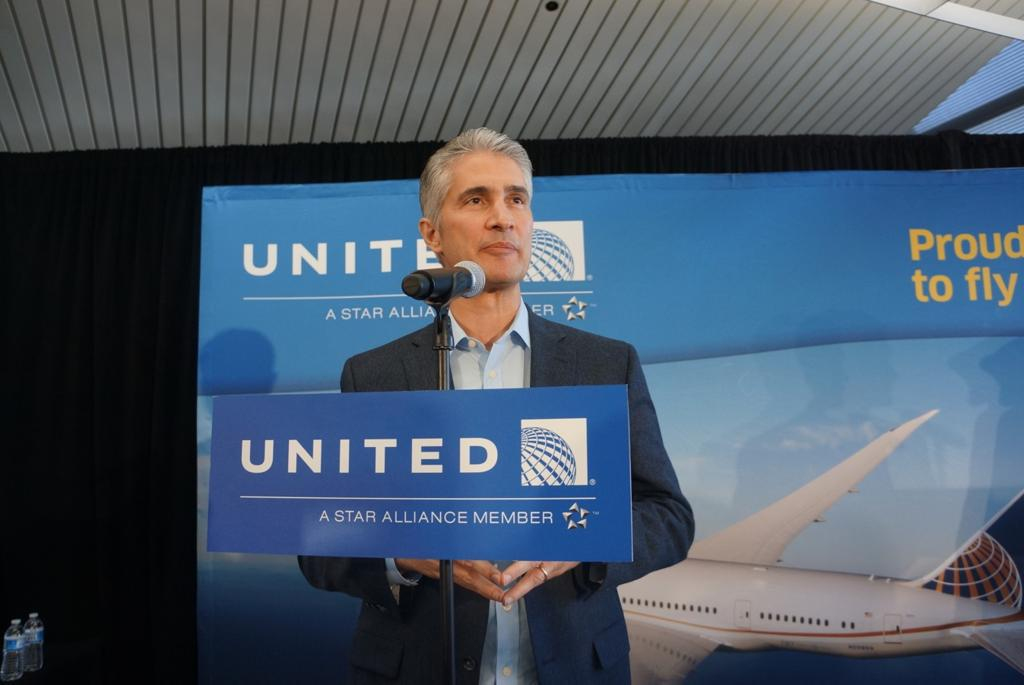face: (441, 161, 535, 279)
